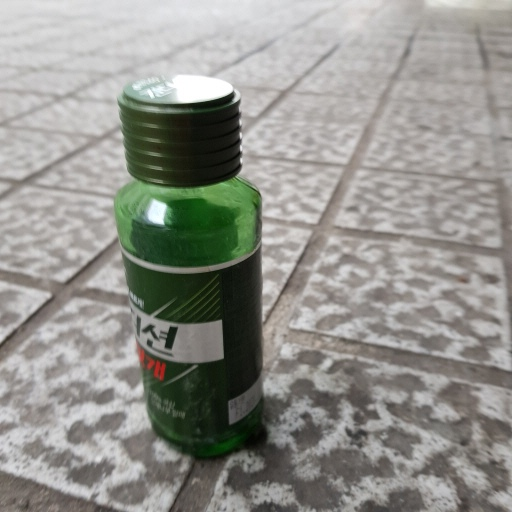Glass_4: (112, 68, 276, 458)
